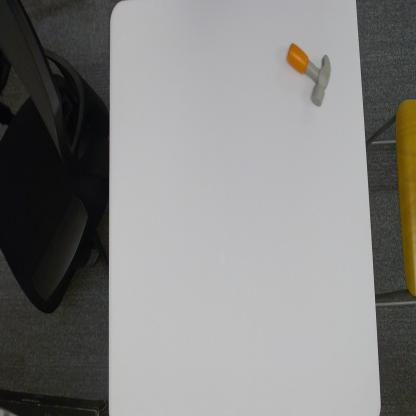Hammer: (286, 40, 332, 107)
